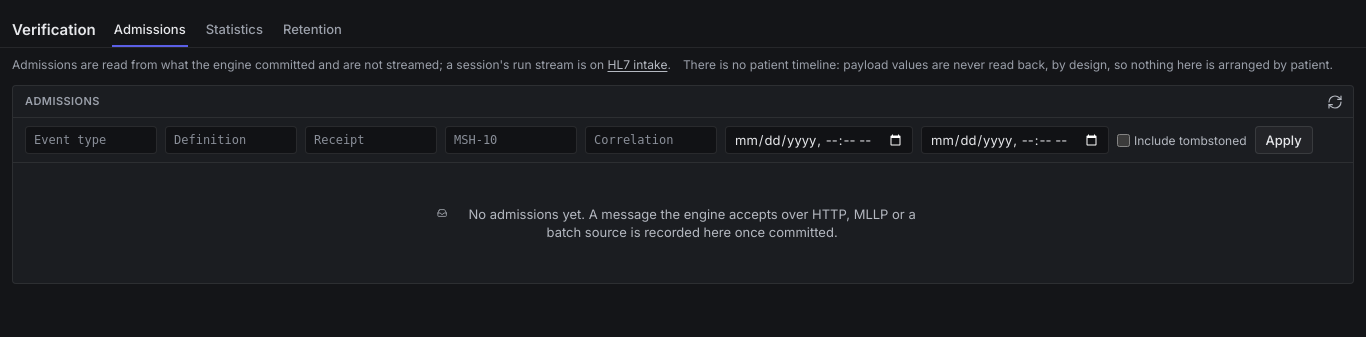
VerificationPage statistics and retention › says when the retention purge is off and counts the window
The image size is (1366, 337).
Click the tab "Retention": (312, 30) [281,12,344,47]
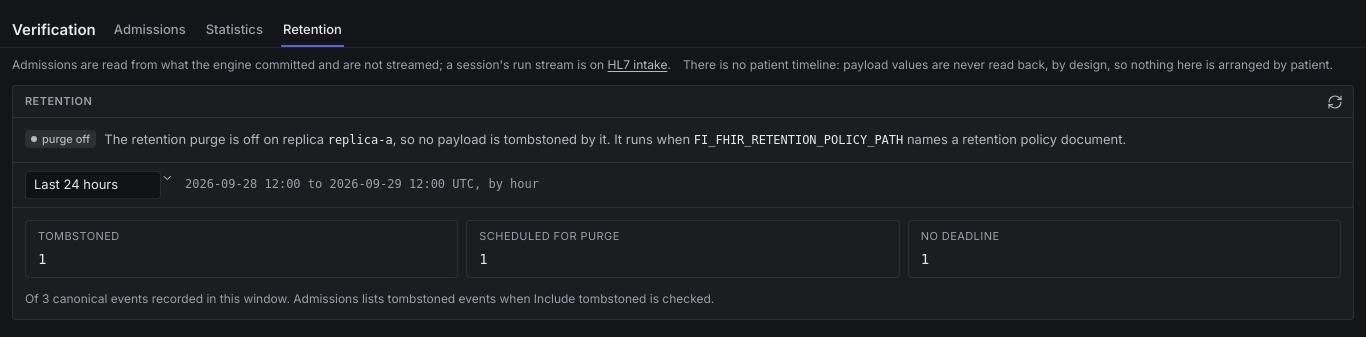
Check: the element with test id "retention-posture" shows "The retention purge is off on replica replica-a", box [13,118,1353,163]
Check: the element with test id "retention-posture" shows "FI_FHIR_RETENTION_POLICY_PATH", box [694,133,903,147]
